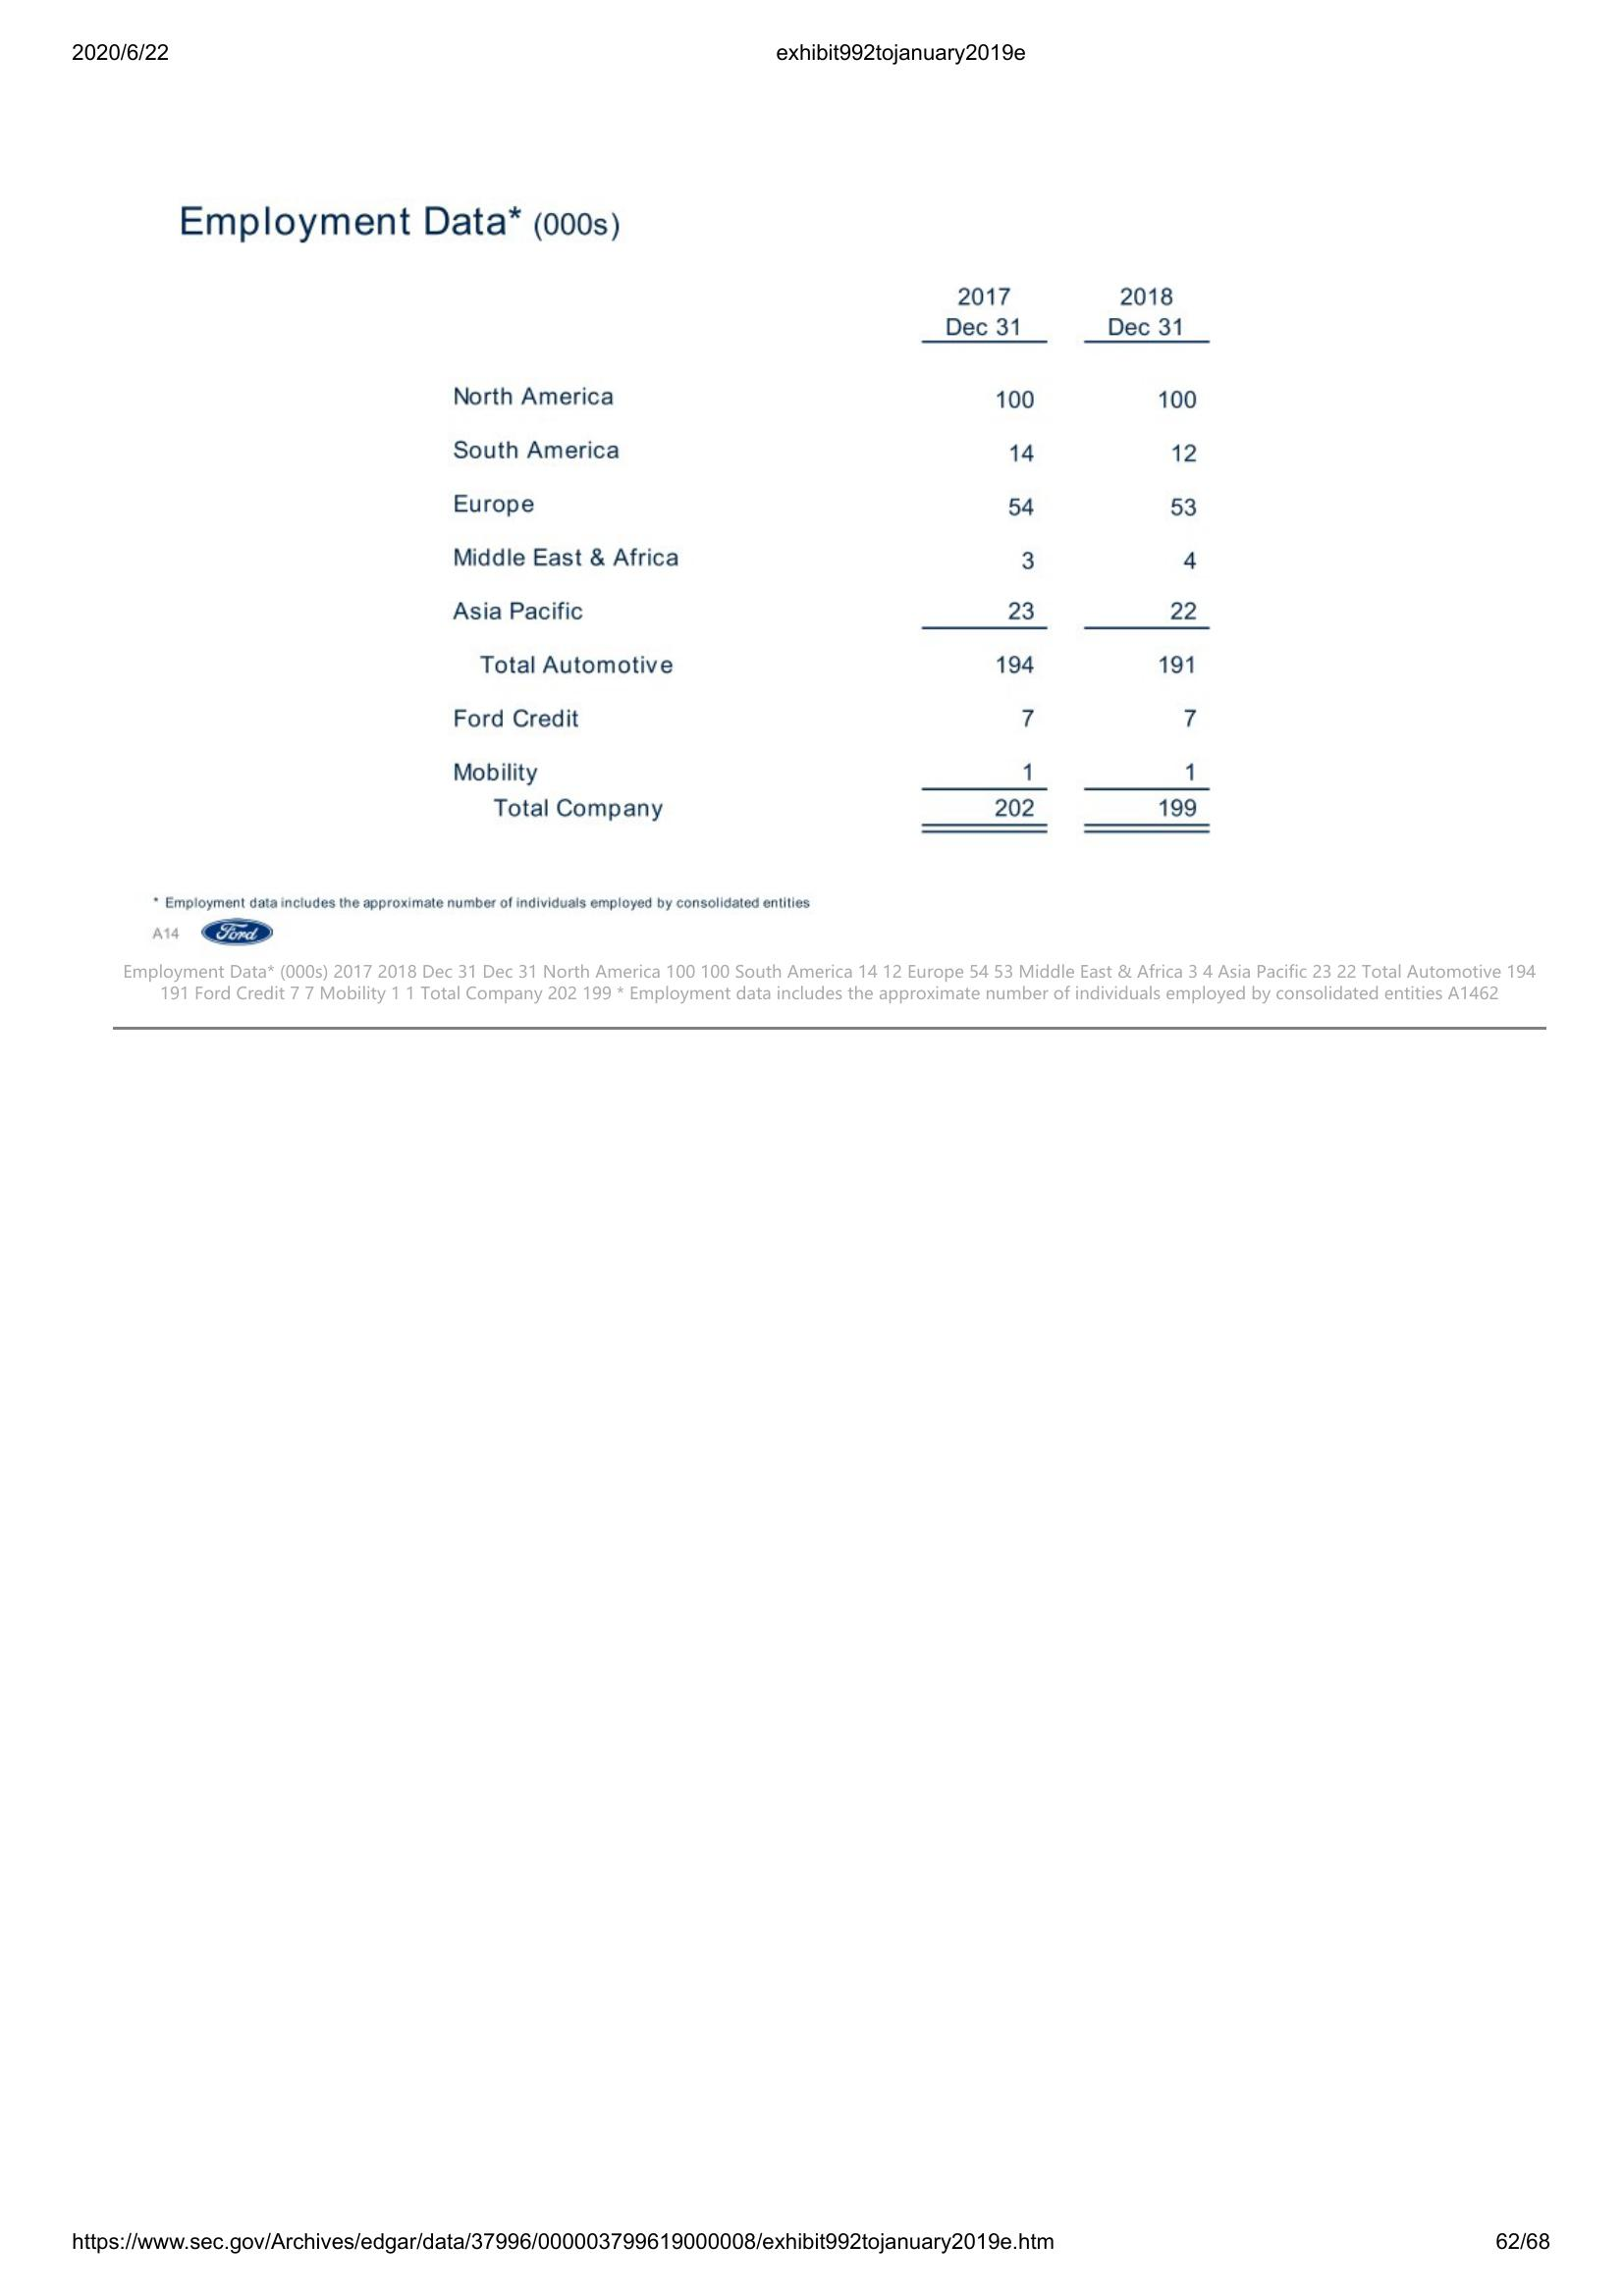table: (437, 274, 1219, 841)
